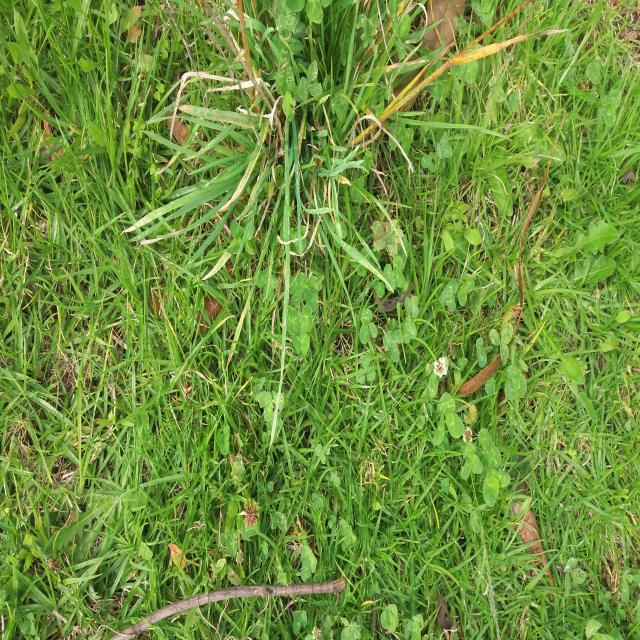Four Leaf Clover: (383, 255, 404, 292)
